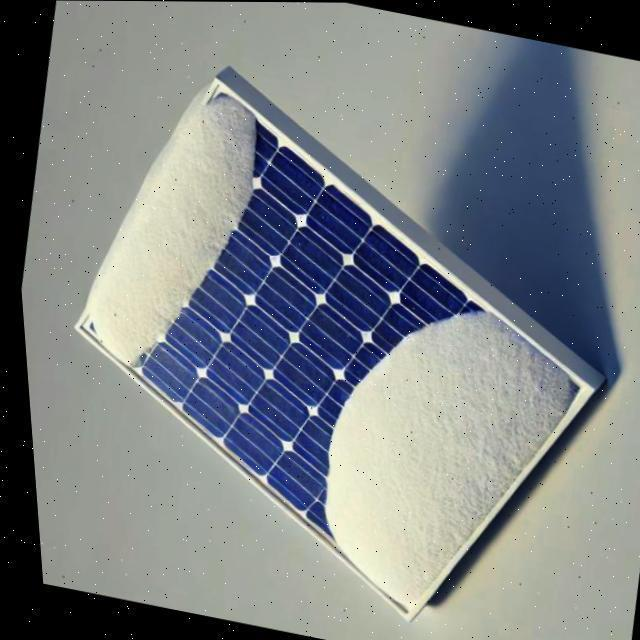Anomaly Solar Panel: (26, 79, 582, 614)
Snow: (256, 270, 577, 611), (56, 75, 285, 380)
